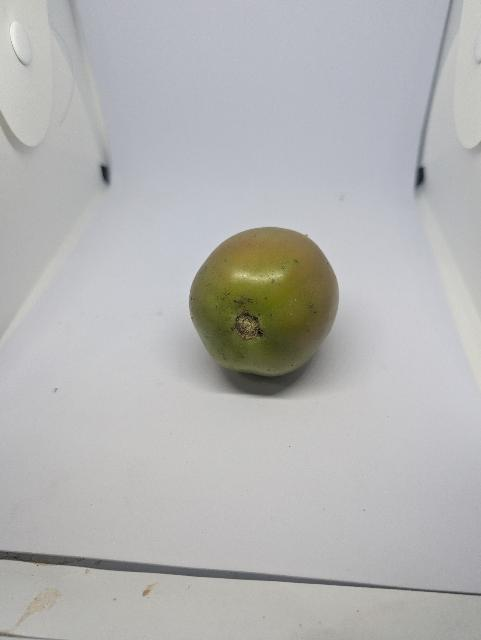breaker: (184, 218, 350, 385)
